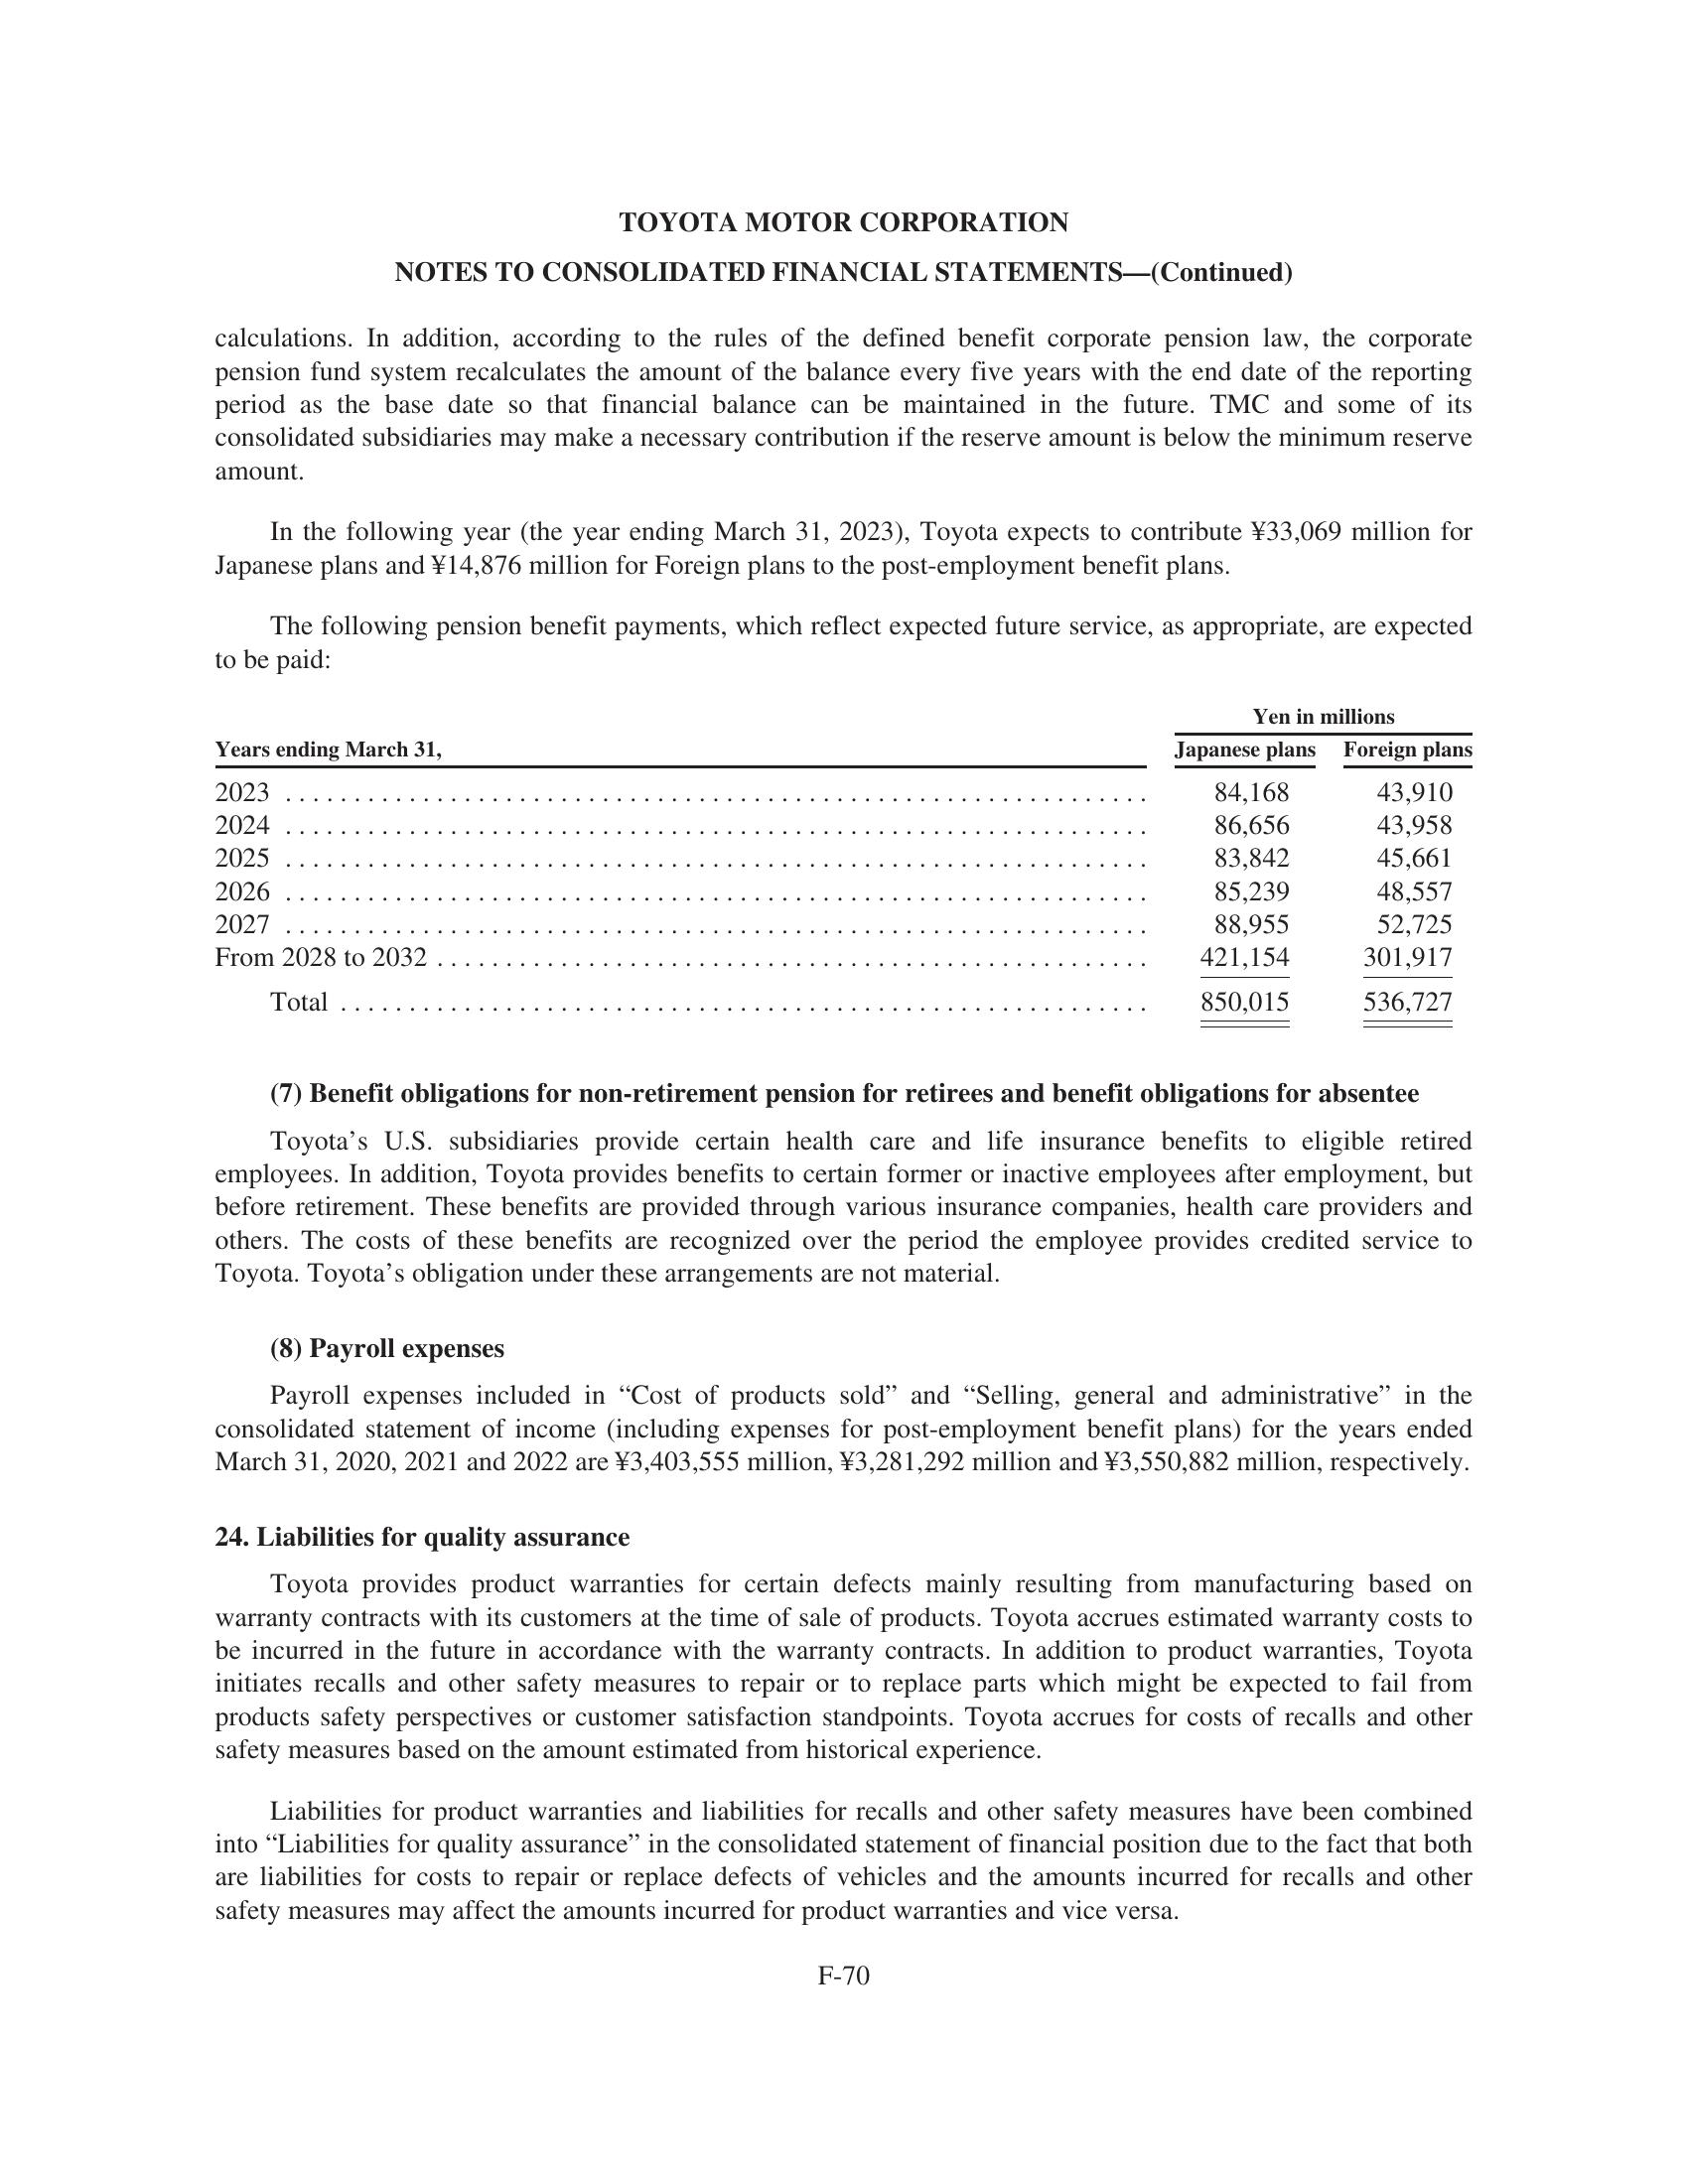Footer: (0, 1946, 1688, 2184)
Header: (0, 0, 1688, 183)
Table: (121, 693, 1500, 1030)
